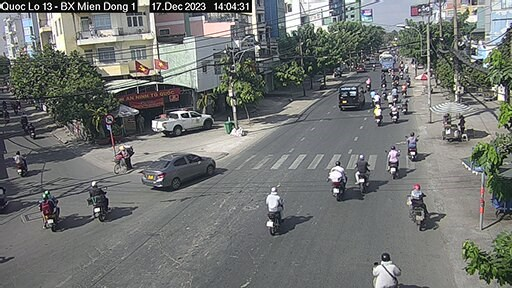car: (140, 151, 220, 191), (151, 109, 216, 137), (336, 81, 367, 113)
motorbike: (405, 183, 434, 232), (263, 185, 288, 240), (86, 177, 113, 225), (351, 152, 374, 199), (327, 155, 348, 204), (40, 191, 61, 233), (383, 143, 402, 184), (402, 129, 421, 163), (12, 149, 30, 177), (388, 100, 401, 127), (373, 103, 386, 128)
